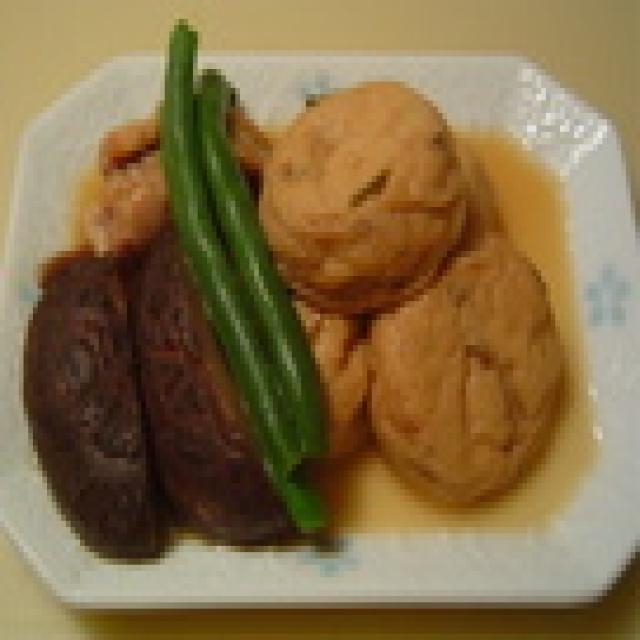熟制海鲜: (254, 50, 570, 496)
